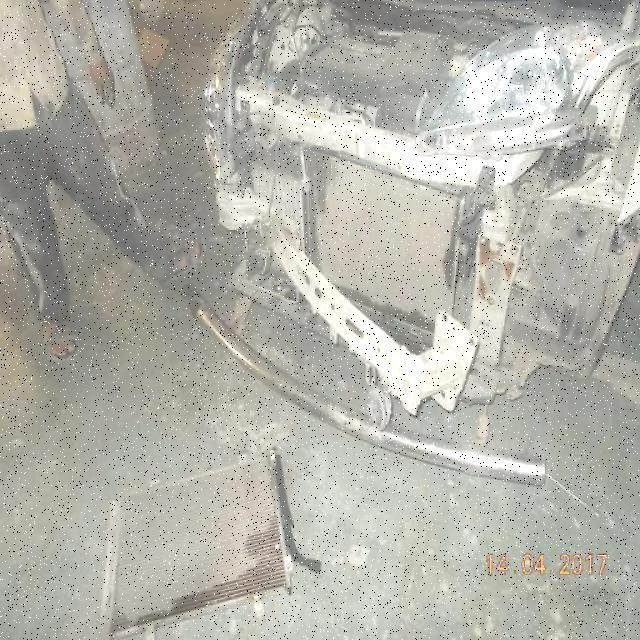car damage: (209, 83, 633, 395)
